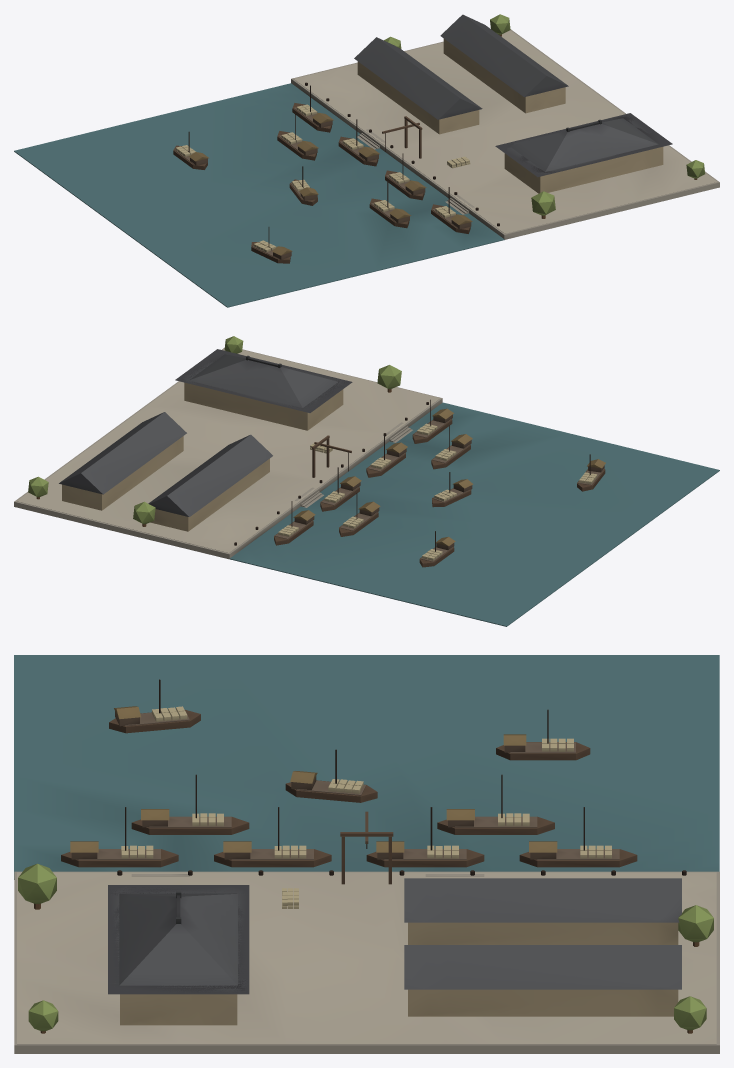
The model's file is jishuitan-harbour.glb.
3 views of the same model, one above another, from view 1: azimuth 30°, elevation 25°; view 2: azimuth 150°, elevation 25°; view 3: azimuth 270°, elevation 25° (orthographic). The views are drawn at different scales.
Visible parts, largest first — view 1: p0_quays, p1_warehouses, p2_trees; view 2: p0_quays, p1_warehouses, p2_trees; view 3: p0_quays, p1_warehouses, p2_trees.
Part boxes in pixels (x1=…): p0_quays: x1=14, y1=29, x2=719, y2=307; p1_warehouses: x1=354, y1=14, x2=672, y2=193; p2_trees: x1=173, y1=14, x2=705, y2=263; p0_quays: x1=14, y1=348, x2=719, y2=626; p1_warehouses: x1=59, y1=349, x2=352, y2=531; p2_trees: x1=28, y1=336, x2=605, y2=567; p0_quays: x1=14, y1=655, x2=719, y2=1053; p1_warehouses: x1=108, y1=811, x2=681, y2=1025; p2_trees: x1=18, y1=679, x2=713, y2=1033.
Size of the model in its own units: 160 by 14.9 by 120.
